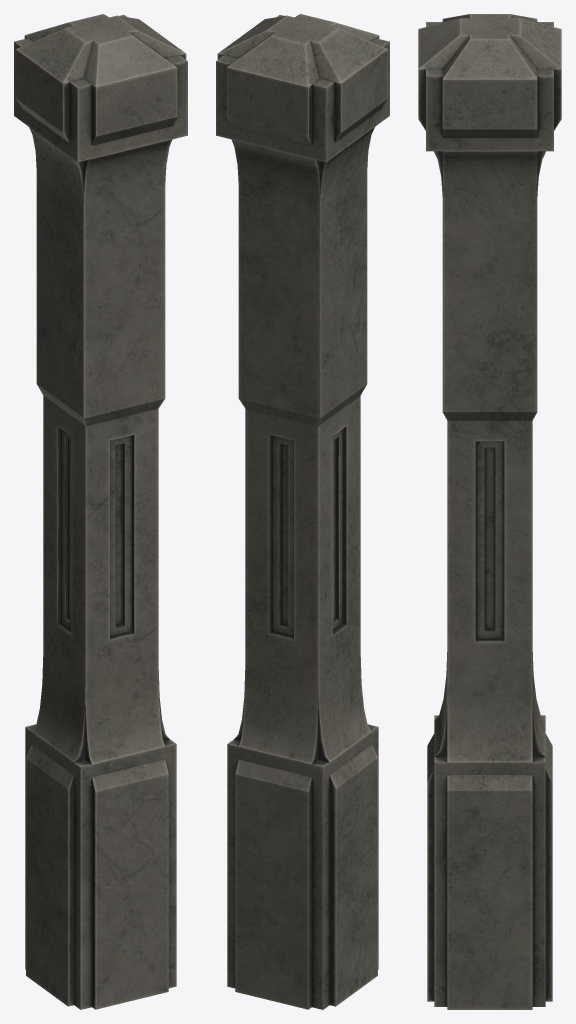
The model's file is SM_Pillar2.fbx.
3 renders of one model, left to right at view 1: azimuth 30°, elevation 25°; view 2: azimuth 150°, elevation 25°; view 3: azimuth 270°, elevation 25°, orthographic.
Visible parts, largest first — view 1: SM_Pillar2; view 2: SM_Pillar2; view 3: SM_Pillar2.
Boxes of the visible parts, x1,y1,x2,y2 form: SM_Pillar2: [14, 14, 187, 1009]; SM_Pillar2: [216, 14, 389, 1009]; SM_Pillar2: [418, 14, 561, 1009].
Size of the model in its own units: 83.82 by 83.82 by 616.
